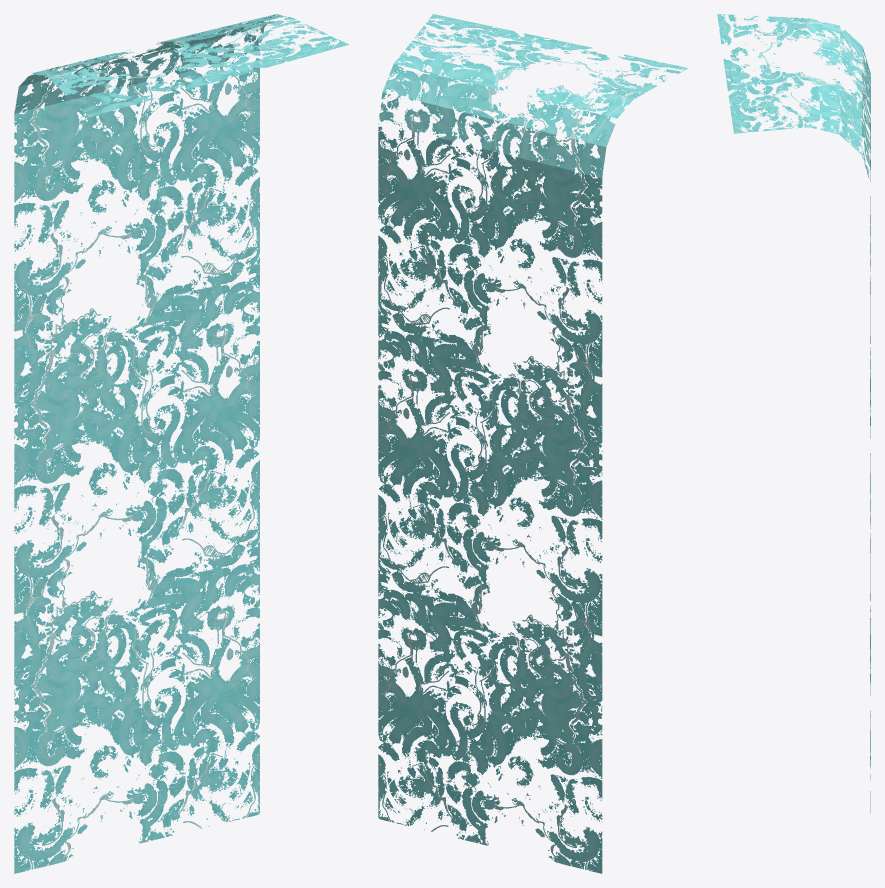
File: water-fall-01-art-001.glb
The picture shows the model from 3 angles, left to right: view 1: azimuth 30°, elevation 25°; view 2: azimuth 150°, elevation 25°; view 3: azimuth 270°, elevation 25°; orthographic projection. The views are drawn at different scales.
Visible parts, largest first — view 1: Water_Fall_01_Art.001; view 2: Water_Fall_01_Art.001; view 3: Water_Fall_01_Art.001.
Boxes of the visible parts, x1,y1,x2,y2 form: Water_Fall_01_Art.001: (14, 14, 348, 873); Water_Fall_01_Art.001: (378, 14, 688, 873); Water_Fall_01_Art.001: (717, 14, 870, 813).
Bounding box in the file's own units: 5.12 × 14.87 × 2.77.
Materials: 1 (1 with a texture image).
